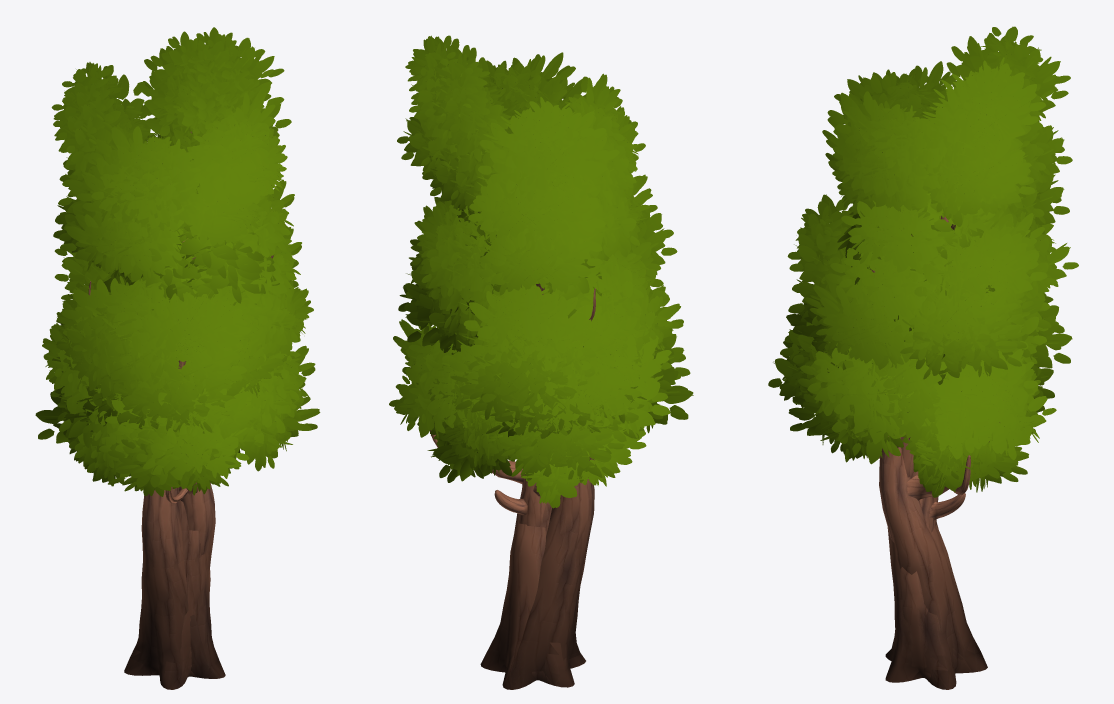
File: trees-common.glb
3 views of the same model, side by side, from view 1: azimuth 30°, elevation 25°; view 2: azimuth 150°, elevation 25°; view 3: azimuth 270°, elevation 25° (orthographic). The views are drawn at different scales.
Visible parts, largest first — view 1: CommonTree_3, CommonTree_4, CommonTree_1, CommonTree_2, CommonTree_5; view 2: CommonTree_3, CommonTree_4, CommonTree_2, CommonTree_1, CommonTree_5; view 3: CommonTree_2, CommonTree_4, CommonTree_3, CommonTree_1, CommonTree_5.
Boxes of the visible parts, x1,y1,x2,y2 form: CommonTree_3: [51, 31, 313, 689]; CommonTree_4: [59, 27, 294, 685]; CommonTree_1: [35, 238, 320, 683]; CommonTree_2: [42, 186, 315, 689]; CommonTree_5: [53, 248, 291, 677]; CommonTree_3: [414, 45, 677, 686]; CommonTree_4: [397, 35, 645, 689]; CommonTree_2: [389, 201, 690, 689]; CommonTree_1: [405, 200, 693, 684]; CommonTree_5: [450, 215, 671, 685]; CommonTree_2: [768, 184, 1056, 689]; CommonTree_4: [822, 26, 1072, 689]; CommonTree_3: [784, 42, 1069, 689]; CommonTree_1: [779, 204, 1072, 686]; CommonTree_5: [806, 212, 1078, 681].
Size of the model in its own units: 4.46 by 9.44 by 4.65.
2 materials, 2 textured.
